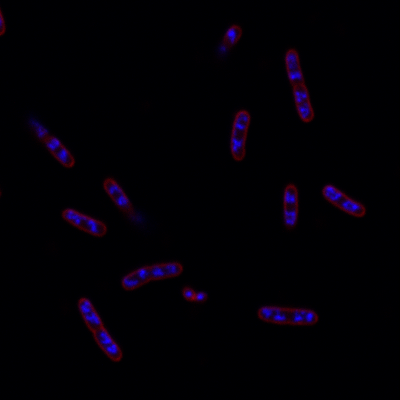Control: (74, 295, 124, 362), (283, 48, 316, 124), (121, 259, 185, 291), (321, 183, 367, 219), (61, 205, 108, 238), (257, 301, 319, 326), (228, 108, 251, 162)
Oblique: (27, 116, 76, 170), (101, 177, 149, 227), (213, 21, 243, 60), (282, 180, 301, 230)
